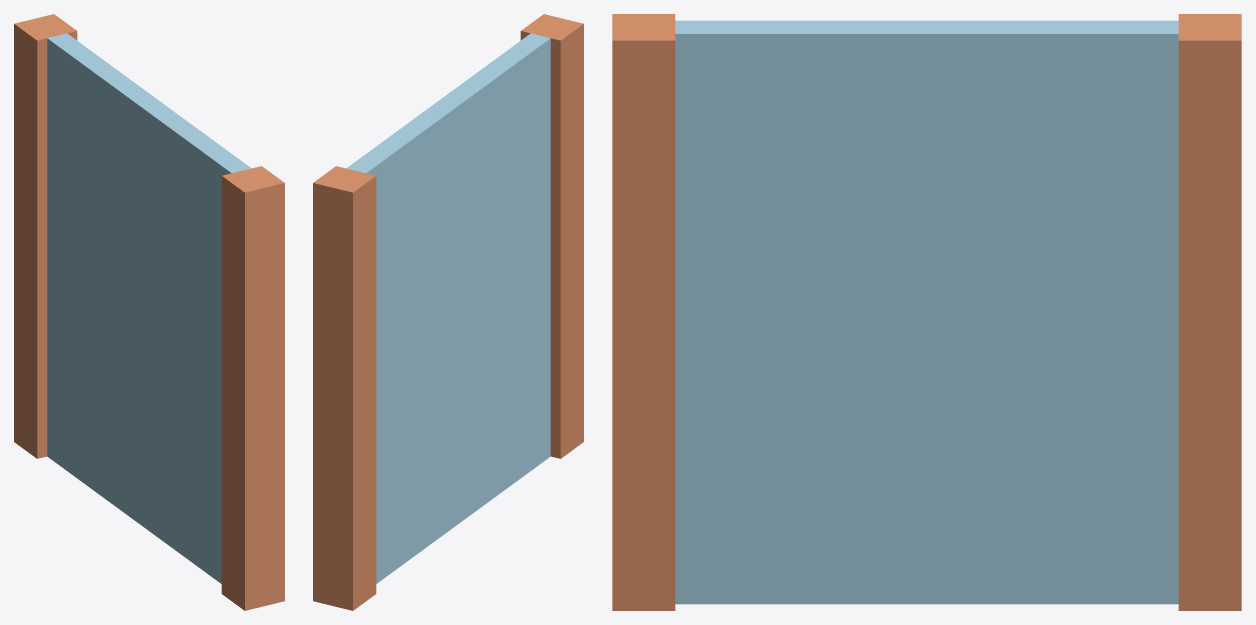
The model's file is wall.glb.
3 views of the same model, side by side, from view 1: azimuth 30°, elevation 25°; view 2: azimuth 150°, elevation 25°; view 3: azimuth 270°, elevation 25° (orthographic). The views are drawn at different scales.
Parts seen in each view (by area): view 1: wall; view 2: wall; view 3: wall.
Boxes of the visible parts, bbox=[...] form: wall: bbox=[14, 14, 284, 610]; wall: bbox=[313, 14, 583, 610]; wall: bbox=[612, 14, 1241, 610].
Size of the model in its own units: 0.3 by 3 by 3.
